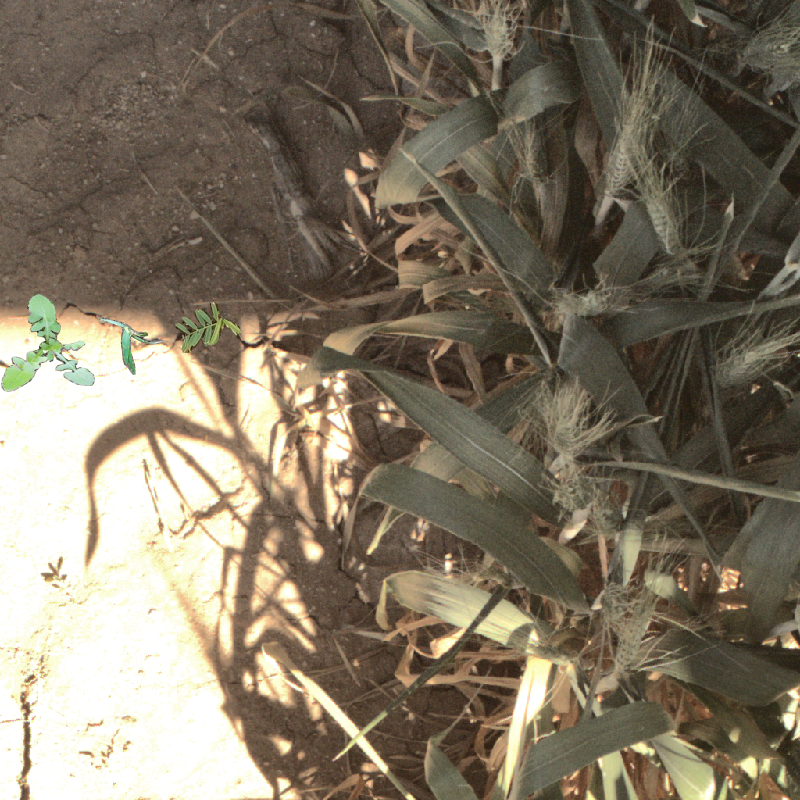spikelet: (549, 396, 593, 519), (719, 336, 800, 381), (601, 114, 641, 198), (550, 284, 628, 327), (521, 122, 556, 211), (643, 189, 682, 255), (616, 602, 647, 682), (479, 8, 515, 62)
weed: (1, 294, 95, 392), (98, 317, 166, 375), (175, 302, 241, 353)
